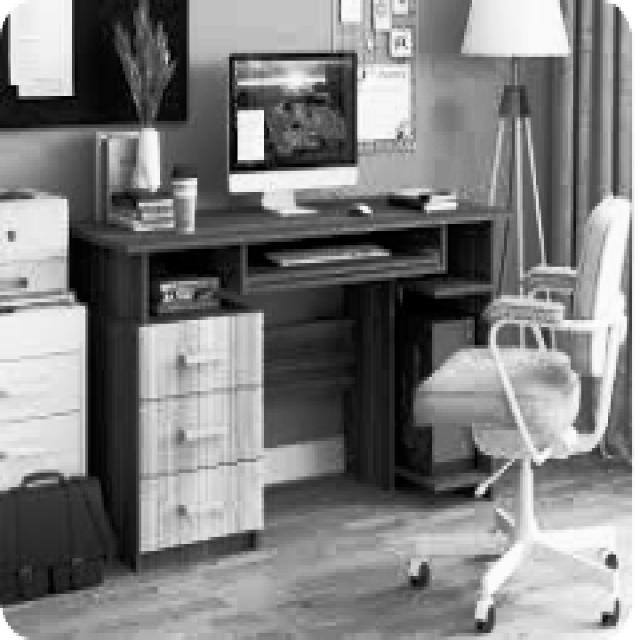book: (408, 192, 629, 629)
table: (69, 192, 512, 569)
